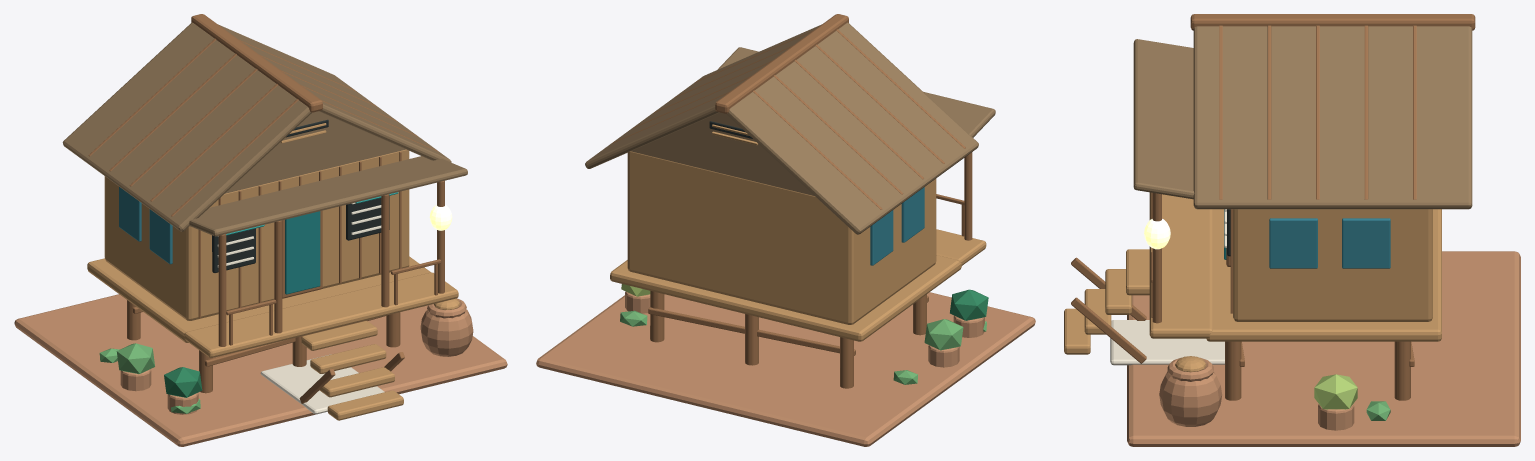
File: kampong-house-v2.glb
The picture shows the model from 3 angles, left to right: view 1: azimuth 30°, elevation 25°; view 2: azimuth 150°, elevation 25°; view 3: azimuth 270°, elevation 25°; orthographic projection. The views are drawn at different scales.
Parts seen in each view (by area): view 1: KAMPONG HOUSE · Attap thatch; view 2: KAMPONG HOUSE · Attap thatch; view 3: KAMPONG HOUSE · Attap thatch, KAMPONG HOUSE · Window warm.
Boxes of the visible parts, bbox=[...] form: KAMPONG HOUSE · Attap thatch: bbox=[14, 14, 507, 446]; KAMPONG HOUSE · Attap thatch: bbox=[536, 14, 1035, 446]; KAMPONG HOUSE · Attap thatch: bbox=[1064, 14, 1520, 446]; KAMPONG HOUSE · Window warm: bbox=[1144, 219, 1170, 249].
Size of the model in its own units: 7.4 by 6.16 by 7.54.
Materials: 2 (2 with a texture image).
